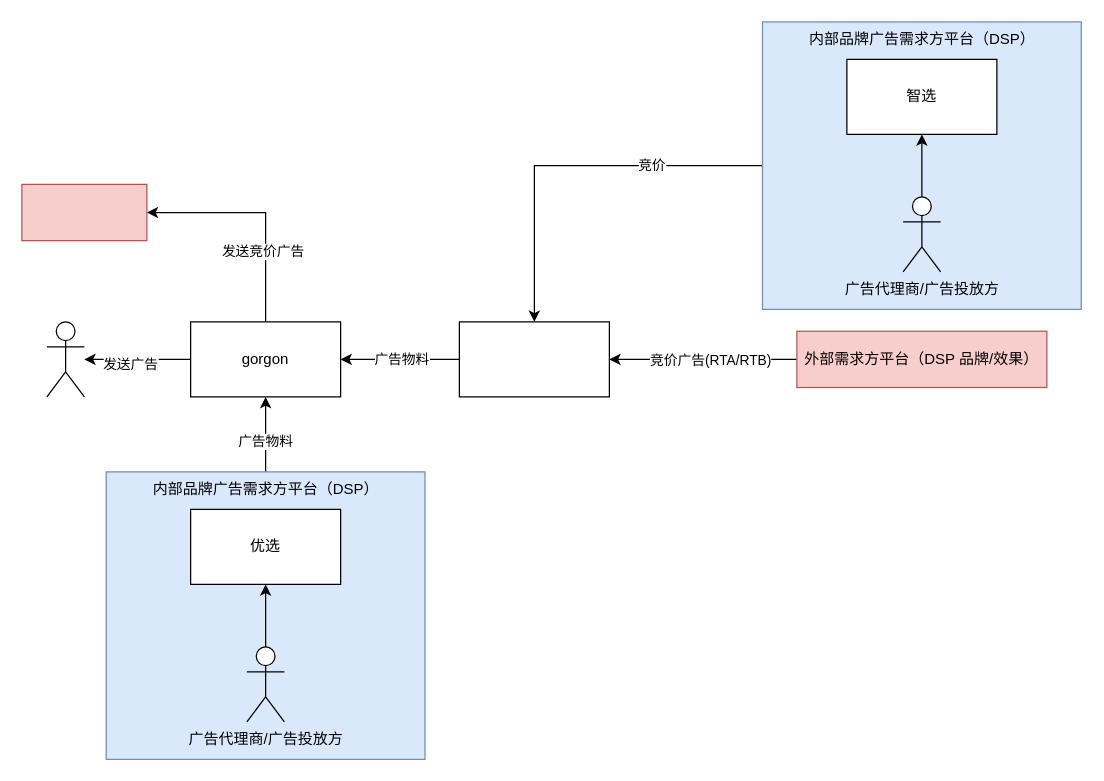
The diagram is 1104 pixels wide and 781 high, and some of its shapes have lost their labels. The shapes that lost their labels are listed below. From the top down, each one's box as (x1, y1, x2, y2) in pixels, then its label:
(21, 183, 147, 241): 外部ADX
(46, 321, 84, 397): 流量方
(458, 321, 609, 397): yex(内部adx)
